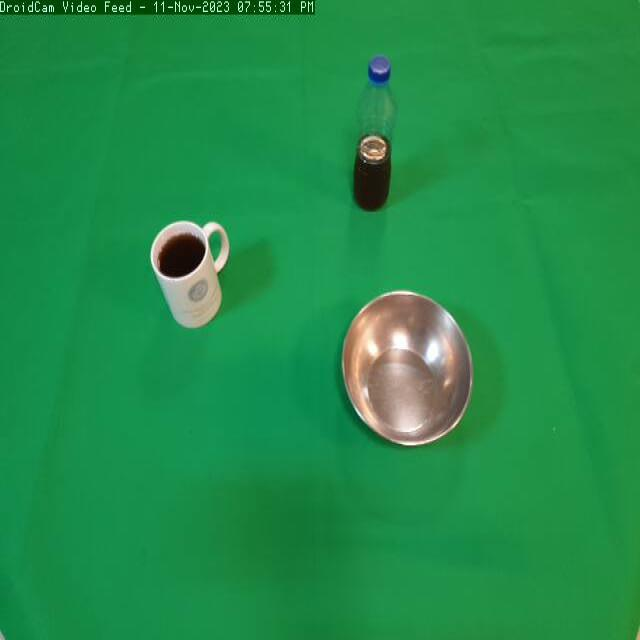bowl: (329, 285, 480, 460)
fullbottle: (346, 51, 405, 226)
fullcup: (148, 212, 235, 344)
